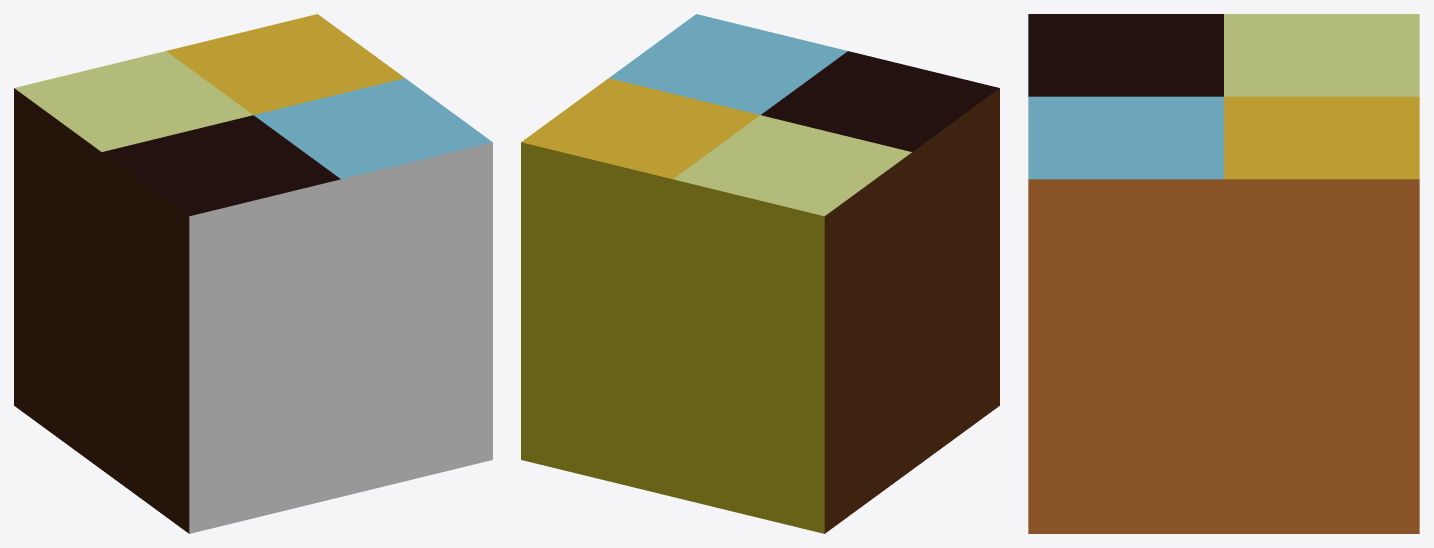
The model's file is liquidMatCube.fbx.
3 views of the same model, side by side, from view 1: azimuth 30°, elevation 25°; view 2: azimuth 150°, elevation 25°; view 3: azimuth 270°, elevation 25° (orthographic). The views are drawn at different scales.
Parts seen in each view (by area): view 1: Drink Material Cube; view 2: Drink Material Cube; view 3: Drink Material Cube.
Part boxes in pixels (left/top/right/bottom): Drink Material Cube: left=14, top=14, right=492, bottom=533; Drink Material Cube: left=521, top=14, right=999, bottom=533; Drink Material Cube: left=1028, top=14, right=1419, bottom=533.
Bounding box in the file's own units: 20 × 20 × 20.
